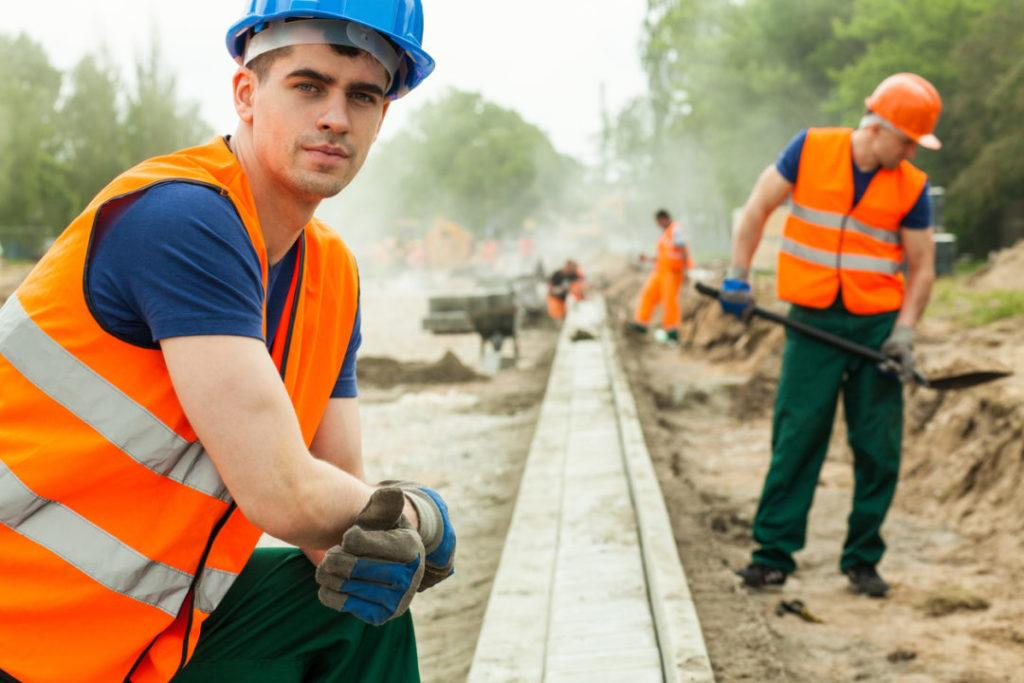helmet: (221, 1, 438, 96), (867, 74, 945, 151)
